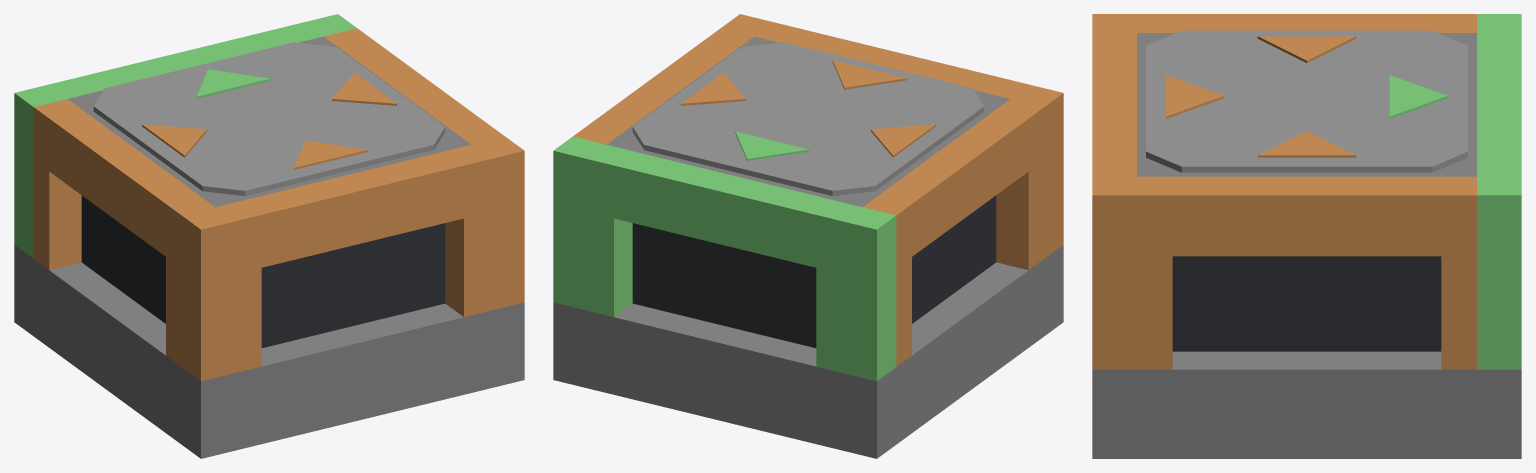
Rendered from vfef_merger3.obj.
3 renders of one model, left to right at view 1: azimuth 30°, elevation 25°; view 2: azimuth 150°, elevation 25°; view 3: azimuth 270°, elevation 25°, orthographic. The views are drawn at different scales.
Visible parts, largest first — view 1: vfef_merger3_0, vfef_merger3_22, vfef_merger3_13, vfef_merger3_12, vfef_merger3_16, vfef_merger3_18, vfef_merger3_11, vfef_merger3_20, vfef_merger3_15, vfef_merger3_17, vfef_merger3_10, vfef_merger3_8 (+13 smaller); view 2: vfef_merger3_0, vfef_merger3_22, vfef_merger3_5, vfef_merger3_4, vfef_merger3_16, vfef_merger3_19, vfef_merger3_3, vfef_merger3_21, vfef_merger3_14, vfef_merger3_17, vfef_merger3_2, vfef_merger3_8 (+13 smaller); view 3: vfef_merger3_0, vfef_merger3_22, vfef_merger3_9, vfef_merger3_8, vfef_merger3_20, vfef_merger3_21, vfef_merger3_6, vfef_merger3_7, vfef_merger3_4, vfef_merger3_12, vfef_merger3_1, vfef_merger3_16 (+12 smaller).
Part boxes in pixels (x1=…): vfef_merger3_0: x1=14, y1=245, x2=524, y2=458; vfef_merger3_22: x1=93, y1=42, x2=445, y2=195; vfef_merger3_13: x1=261, y1=223, x2=445, y2=348; vfef_merger3_12: x1=243, y1=151, x2=463, y2=267; vfef_merger3_16: x1=49, y1=110, x2=199, y2=256; vfef_merger3_18: x1=181, y1=207, x2=234, y2=381; vfef_merger3_11: x1=445, y1=144, x2=490, y2=316; vfef_merger3_20: x1=472, y1=136, x2=524, y2=310; vfef_merger3_15: x1=33, y1=99, x2=82, y2=270; vfef_merger3_17: x1=81, y1=195, x2=165, y2=323; vfef_merger3_10: x1=215, y1=200, x2=261, y2=372; vfef_merger3_8: x1=339, y1=39, x2=488, y2=133; vfef_merger3_0: x1=553, y1=245, x2=1063, y2=458; vfef_merger3_22: x1=632, y1=42, x2=984, y2=195; vfef_merger3_5: x1=632, y1=223, x2=816, y2=348; vfef_merger3_4: x1=614, y1=151, x2=834, y2=267; vfef_merger3_16: x1=878, y1=110, x2=1028, y2=256; vfef_merger3_19: x1=843, y1=207, x2=896, y2=381; vfef_merger3_3: x1=587, y1=144, x2=632, y2=316; vfef_merger3_21: x1=553, y1=136, x2=605, y2=310; vfef_merger3_14: x1=995, y1=99, x2=1044, y2=270; vfef_merger3_17: x1=912, y1=195, x2=996, y2=323; vfef_merger3_2: x1=816, y1=200, x2=862, y2=372; vfef_merger3_8: x1=589, y1=39, x2=738, y2=133; vfef_merger3_0: x1=1092, y1=351, x2=1521, y2=458; vfef_merger3_22: x1=1146, y1=30, x2=1467, y2=172; vfef_merger3_9: x1=1172, y1=256, x2=1441, y2=351; vfef_merger3_8: x1=1172, y1=176, x2=1441, y2=256; vfef_merger3_20: x1=1092, y1=176, x2=1136, y2=369; vfef_merger3_21: x1=1477, y1=176, x2=1521, y2=369; vfef_merger3_6: x1=1137, y1=176, x2=1172, y2=369; vfef_merger3_7: x1=1441, y1=176, x2=1476, y2=369; vfef_merger3_4: x1=1477, y1=48, x2=1521, y2=161; vfef_merger3_12: x1=1092, y1=48, x2=1136, y2=161; vfef_merger3_1: x1=1137, y1=33, x2=1476, y2=176; vfef_merger3_16: x1=1172, y1=14, x2=1441, y2=32.
Size of the model in its own units: 0.96 by 0.672 by 0.96.
